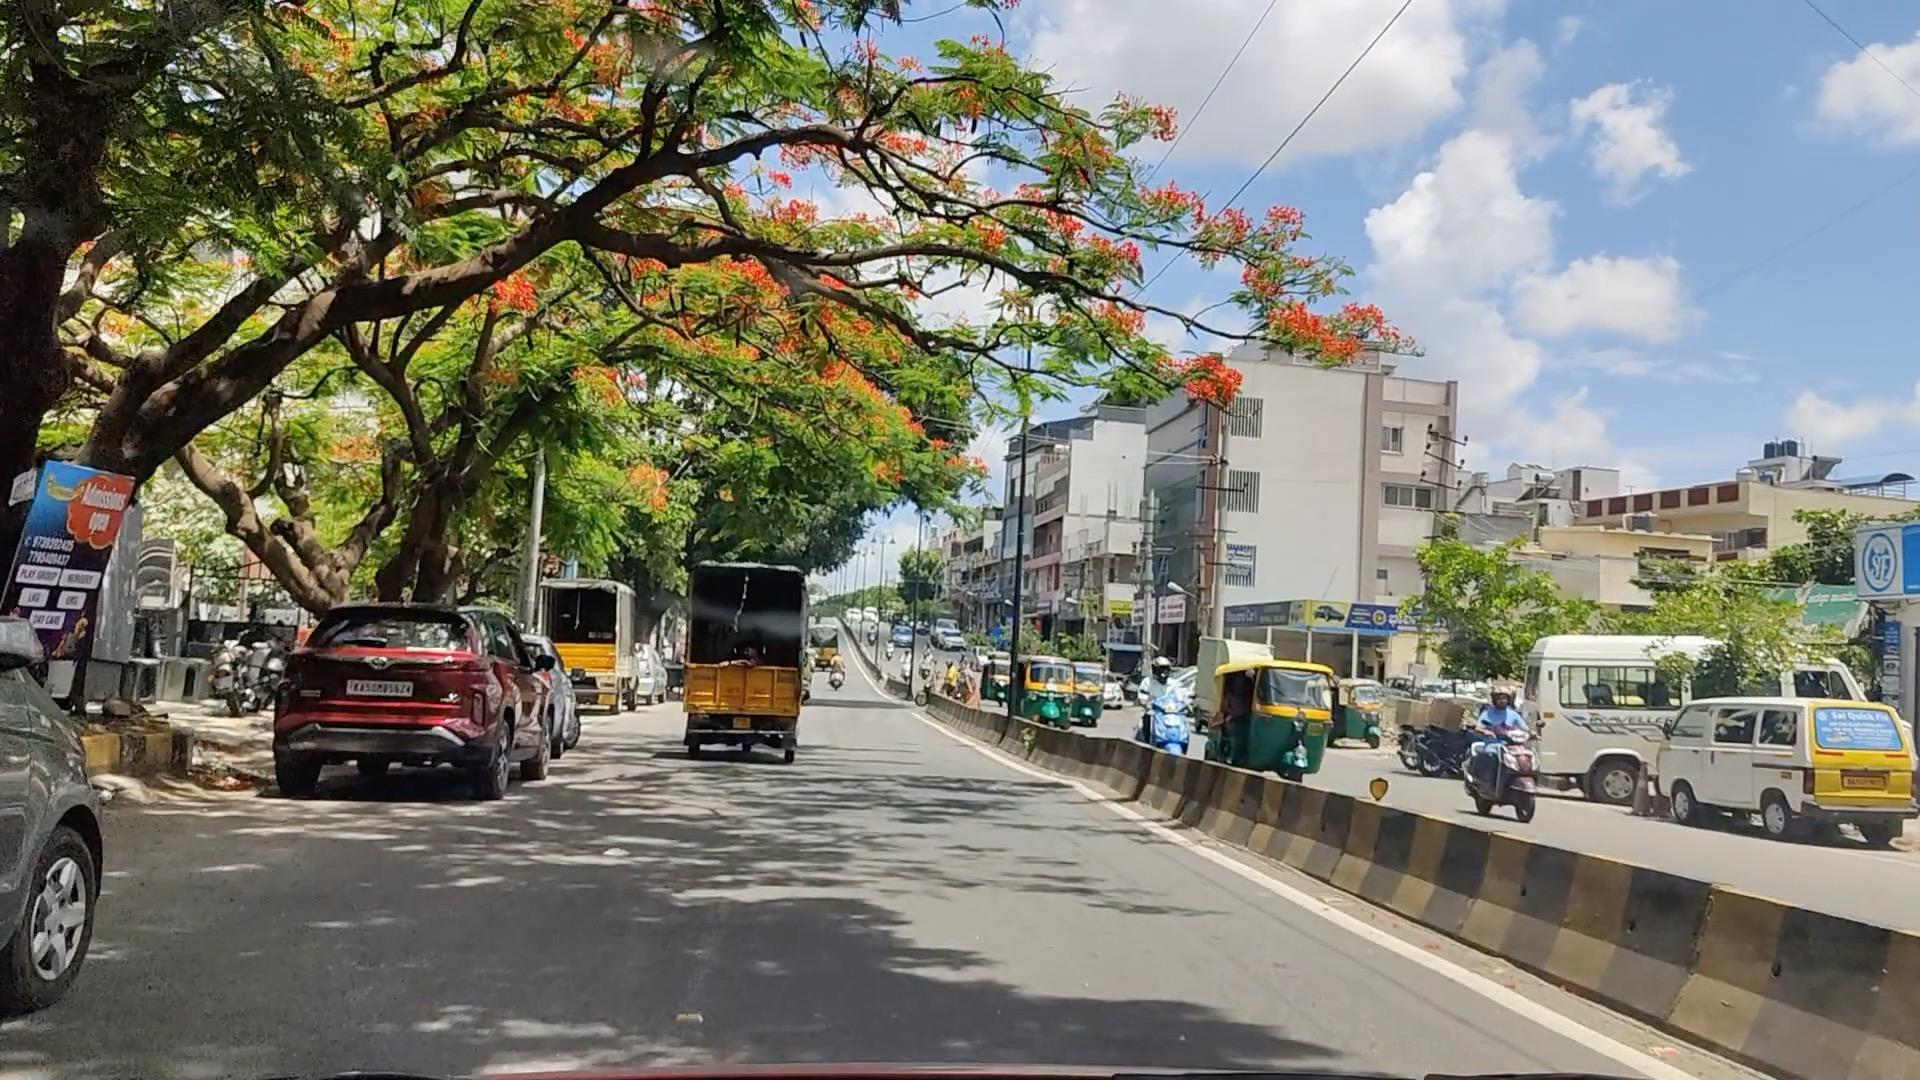HMV: (694, 550, 790, 754)
LMV: (294, 600, 491, 777)
